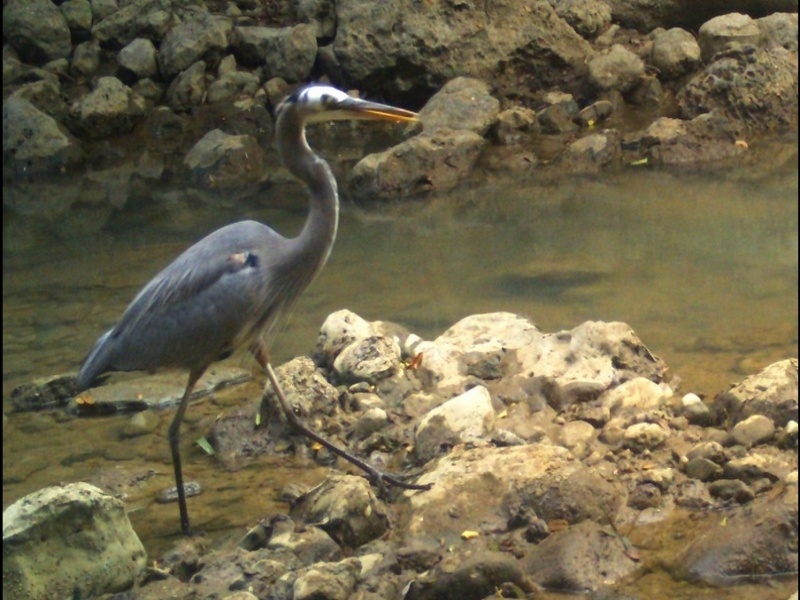heron: (75, 73, 425, 547)
